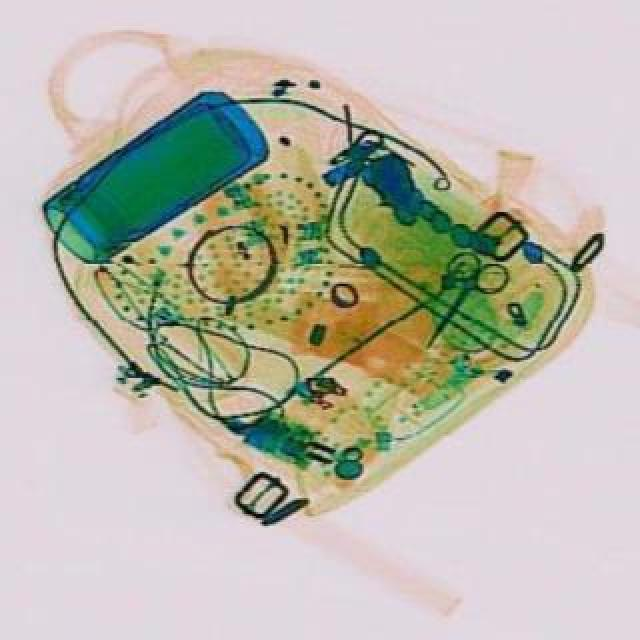pliers: (404, 240, 520, 360)
